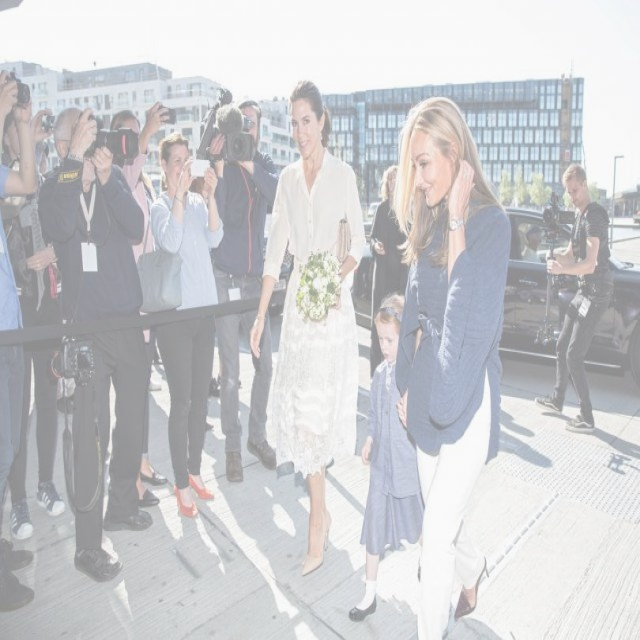pessoa: (396, 95, 514, 639), (245, 73, 368, 582), (35, 104, 155, 587), (203, 97, 282, 485), (150, 129, 227, 520), (346, 292, 429, 630), (2, 109, 65, 539), (108, 98, 172, 510), (0, 71, 39, 627), (534, 164, 613, 432), (368, 164, 412, 380), (516, 223, 548, 264), (53, 376, 79, 420), (34, 138, 51, 176), (27, 352, 35, 422)
